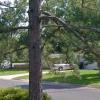Tree: (49, 3, 99, 50)
